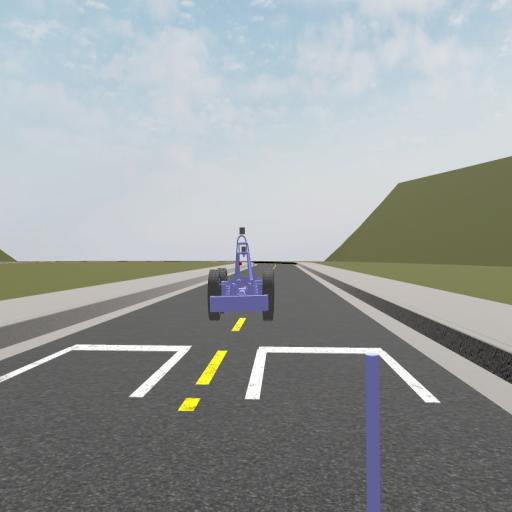ERP-42: (208, 225, 274, 320)
